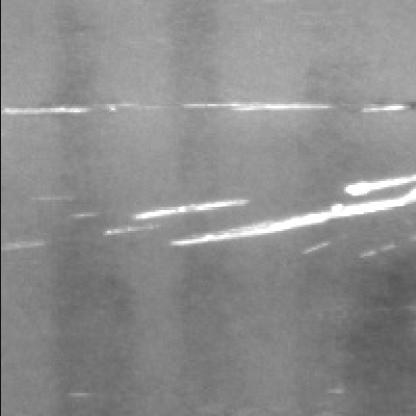scratches: (160, 170, 416, 264), (10, 98, 416, 129), (106, 188, 258, 244)
